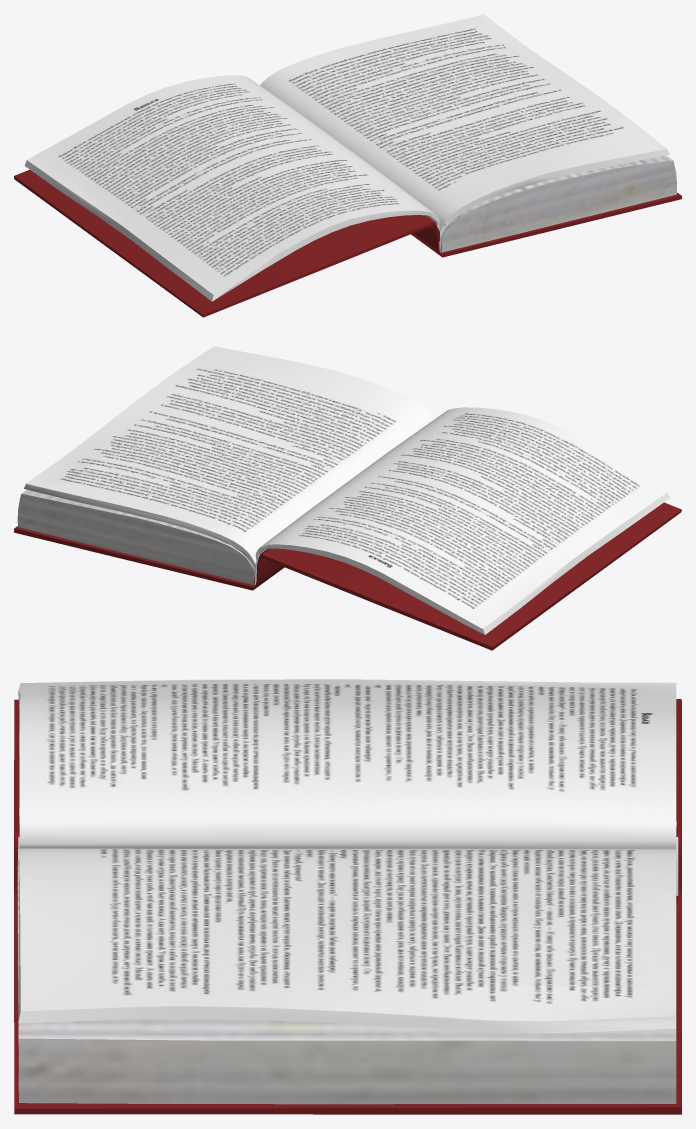
Rendered from Book.FBX.
3 renders of one model, top to bottom at view 1: azimuth 30°, elevation 25°; view 2: azimuth 150°, elevation 25°; view 3: azimuth 270°, elevation 25°, orthographic. The views are drawn at different scales.
Parts seen in each view (by area): view 1: Book; view 2: Book; view 3: Book.
Part boxes in pixels (<box>): Book: <box>14,14,681,317</box>; Book: <box>14,346,681,650</box>; Book: <box>14,679,681,1114</box>.
Size of the model in its own units: 305 by 37.04 by 209.
1 material, 1 textured.
